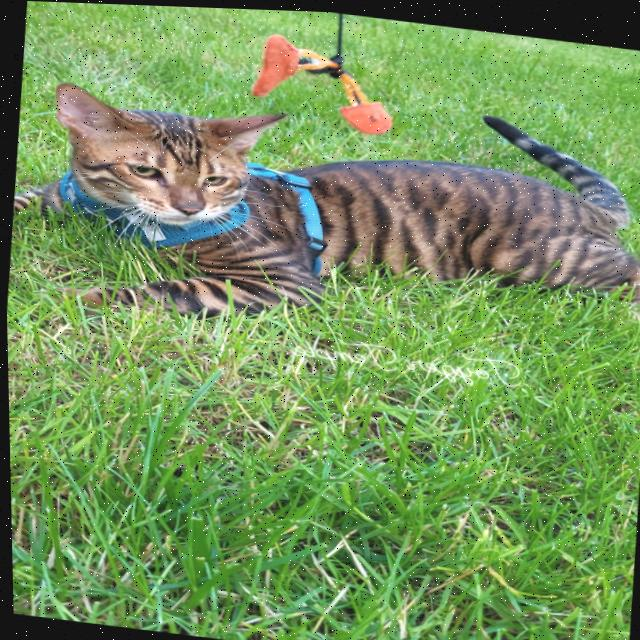Toyger: (1, 51, 640, 381)
